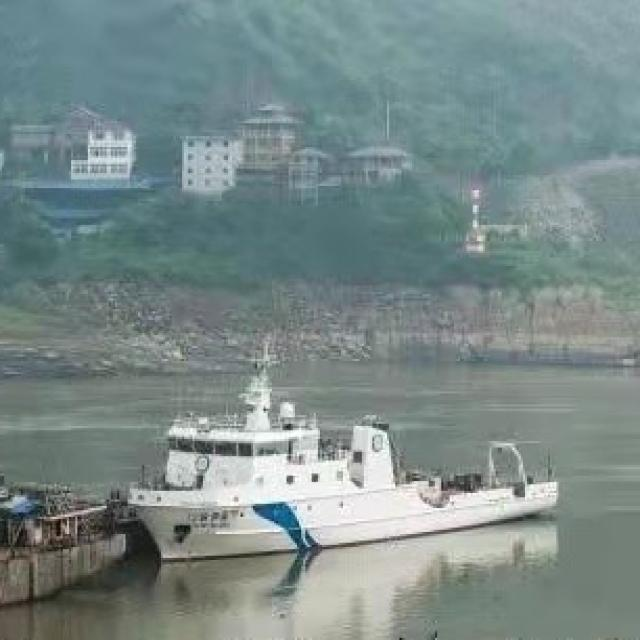houseboat: (134, 367, 590, 579)
